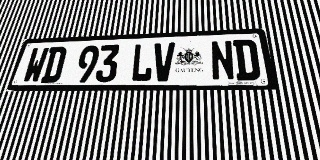3: (95, 44, 120, 82)
9: (74, 45, 100, 83)
D: (233, 39, 261, 81), (40, 46, 68, 83)
L: (130, 43, 154, 82)
N: (210, 40, 236, 81)
V: (152, 42, 175, 82)
W: (21, 47, 50, 83)
